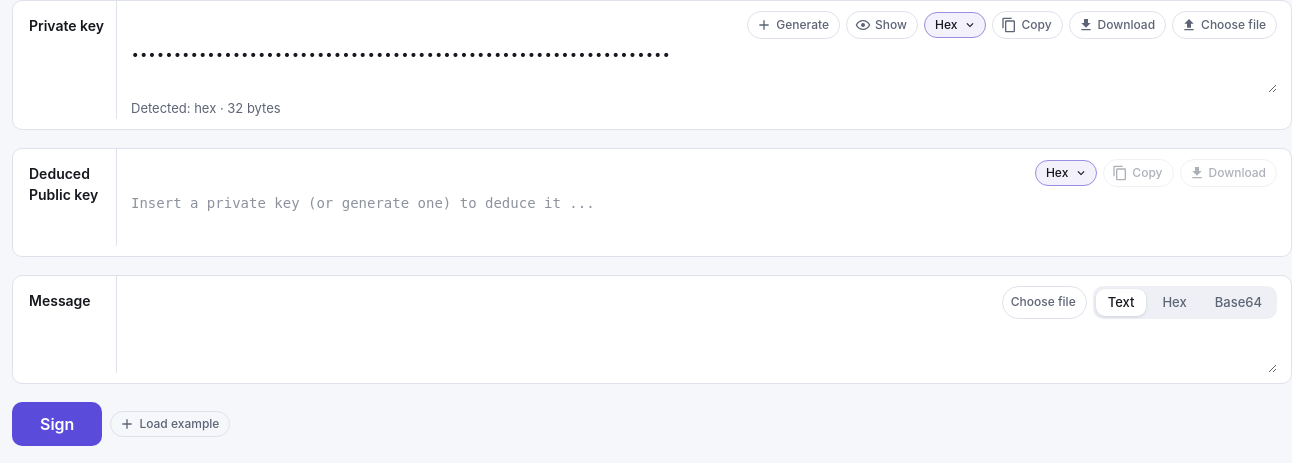
Test: files in the forms › saves a private key only when asked, and reminds that the file is not encrypted
Click the button with aria-label "Download private key" at (1117, 25), box [1069, 11, 1166, 39]
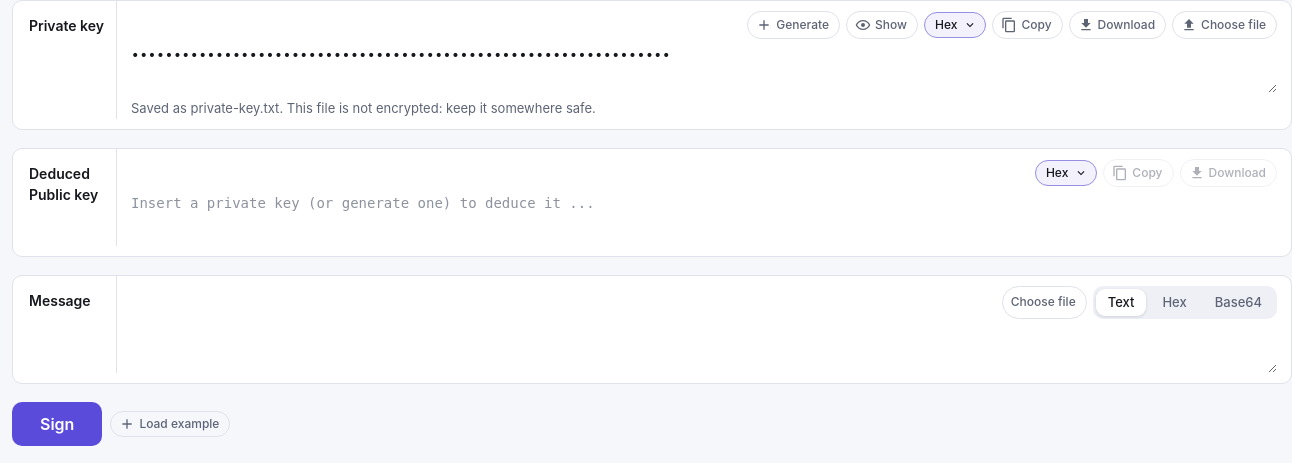
expect the message shows "This file is not encrypted": met, box [279, 100, 596, 116]
# typing again clears the reminder
Replace the text in the text box labelled "Private key" with "2efa9afb1304eaa4d10638c933dece519c39ee9ce9e10d8093d218ee799217a" at (704, 66), box [131, 39, 1277, 93]
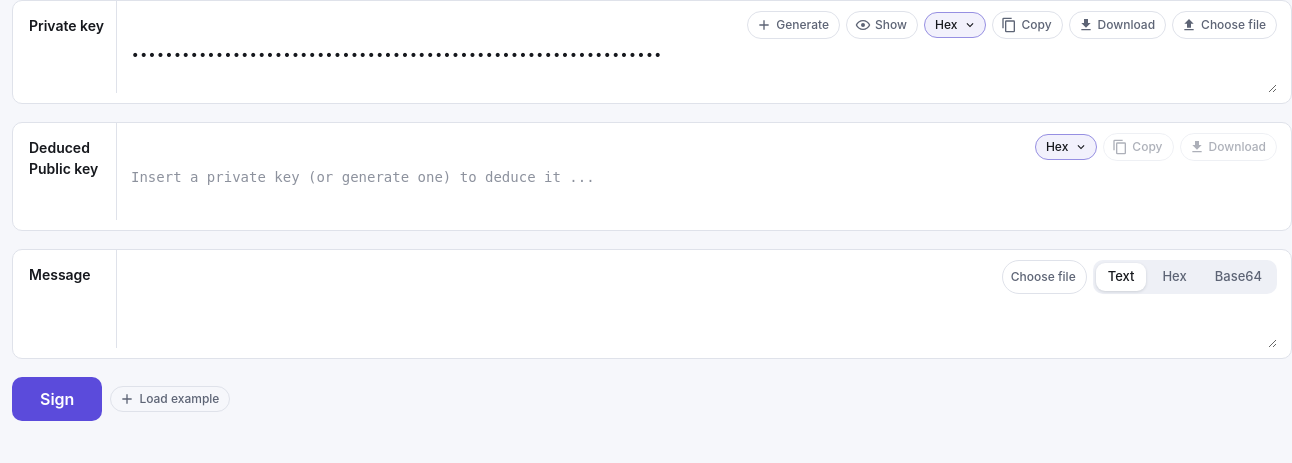
expect the message "Saved as private-key.txt. This file is not encrypted: keep it somewhere safe." is gone: met
